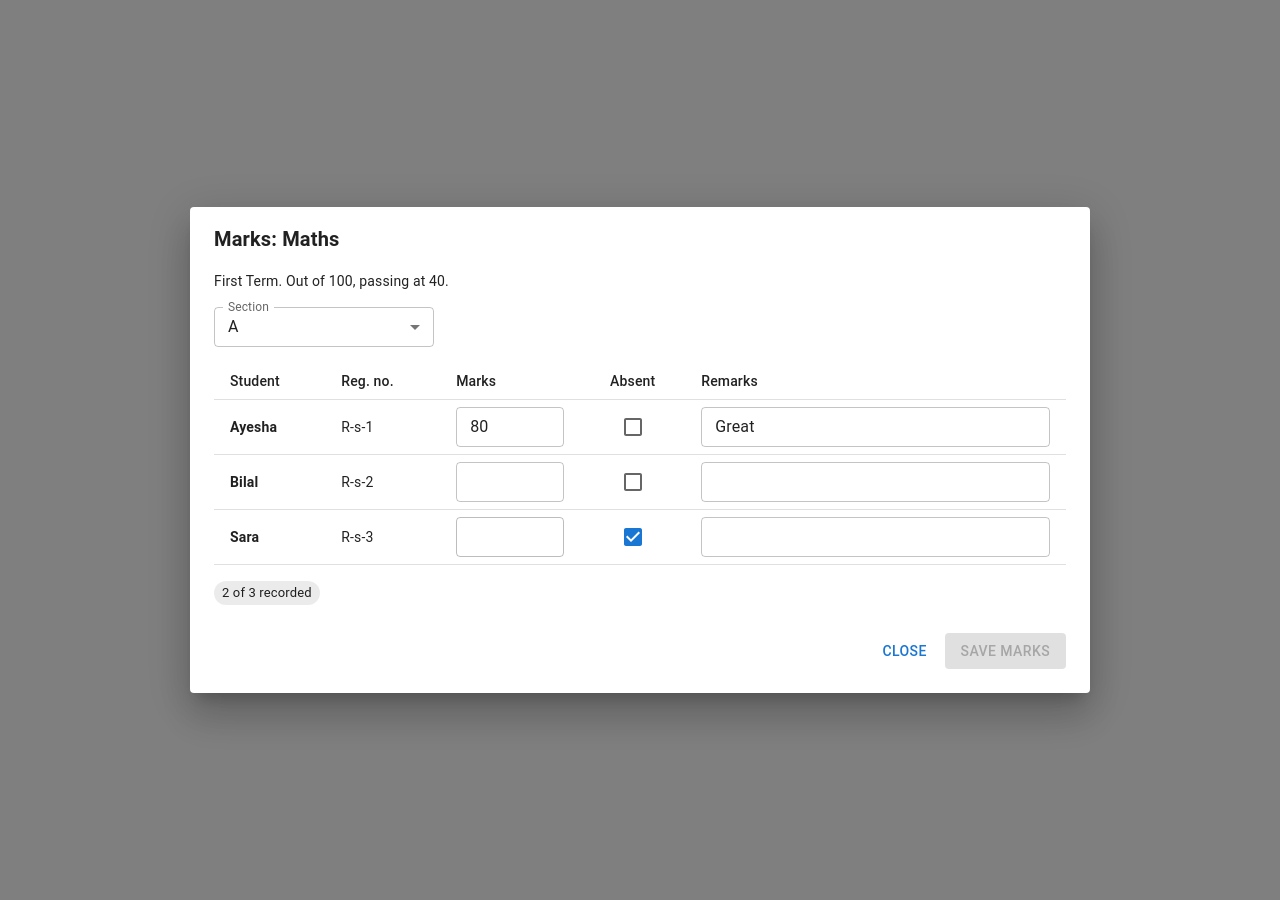
Test: MarksEntryDialog › flags students below the passing marks and counts them
The image size is (1280, 900).
Check: the text "Ayesha" is shown, box [214,399,325,454]
In the number field named "Marks for Bilal": (510, 482) [456,462,564,502], type "30"
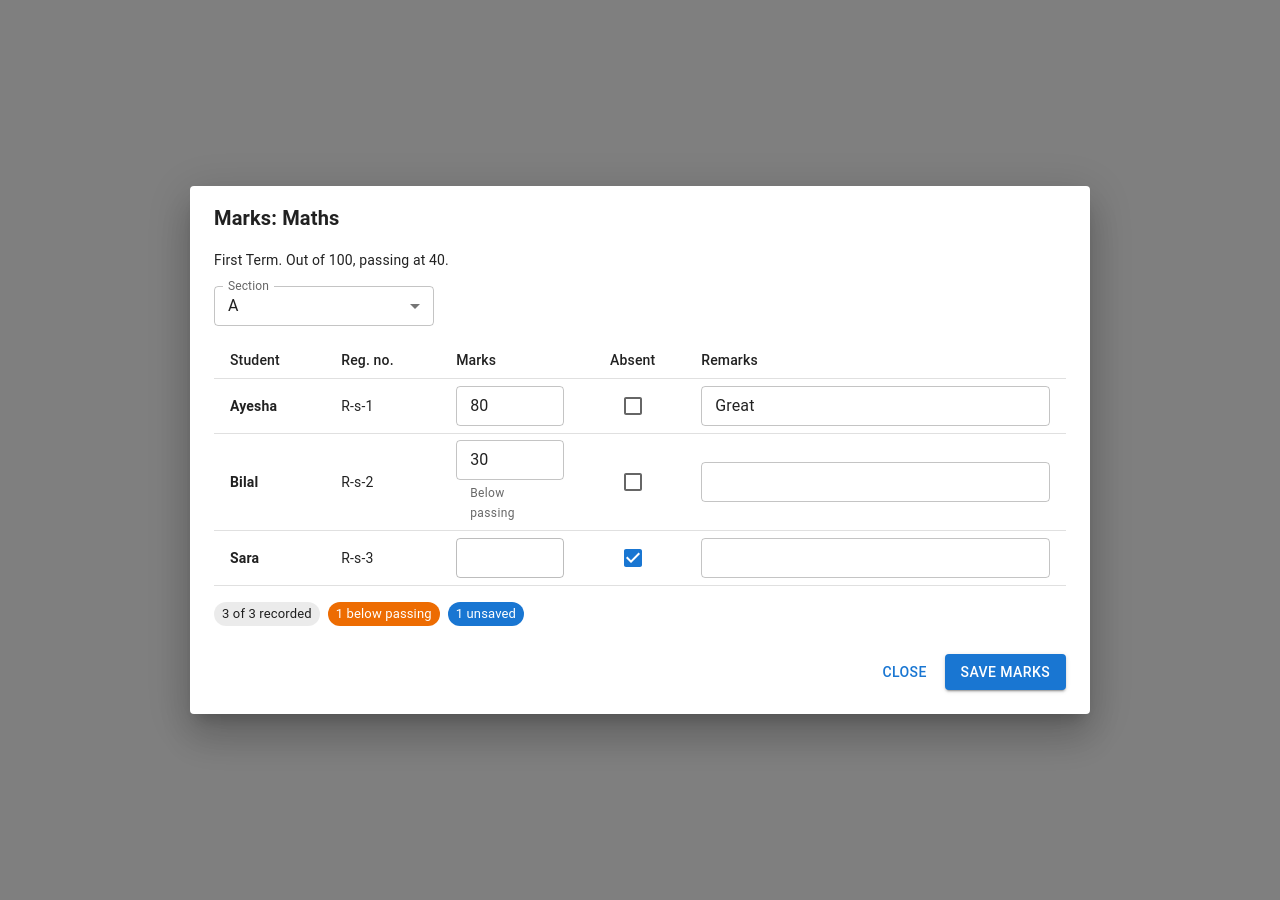
Check: the text "Below passing" is shown, box [470,486,515,520]
Check: the text "1 below passing" is shown, box [328,604,440,623]
Check: the text "3 of 3 recorded" is shown, box [222,606,312,621]
